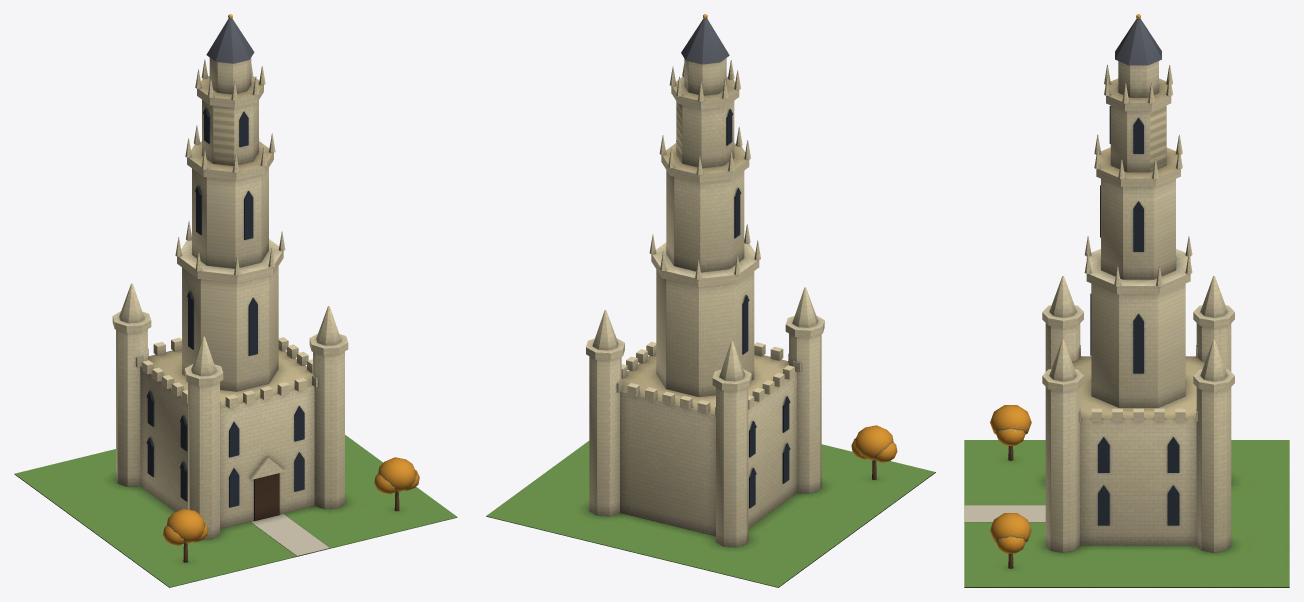
Rendered from water_tower.glb.
3 renders of one model, left to right at view 1: azimuth 30°, elevation 25°; view 2: azimuth 150°, elevation 25°; view 3: azimuth 270°, elevation 25°, orthographic. The views are drawn at different scales.
Parts seen in each view (by area): view 1: water_tower; view 2: water_tower; view 3: water_tower.
Part boxes in pixels (bbox=[...]): water_tower: bbox=[14, 14, 457, 587]; water_tower: bbox=[486, 14, 935, 587]; water_tower: bbox=[964, 14, 1289, 587].
Bounding box in the file's own units: 30 × 47.55 × 28.
1 material, 1 textured.
